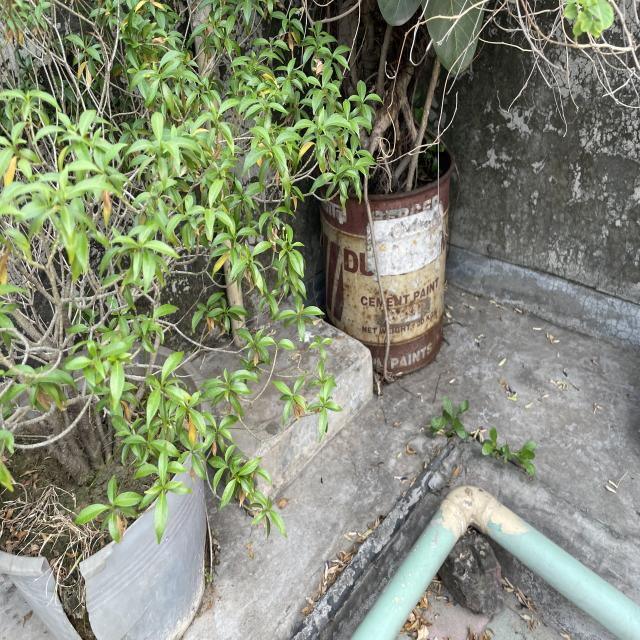Breeding Place: (0, 394, 210, 640), (327, 134, 453, 396)
